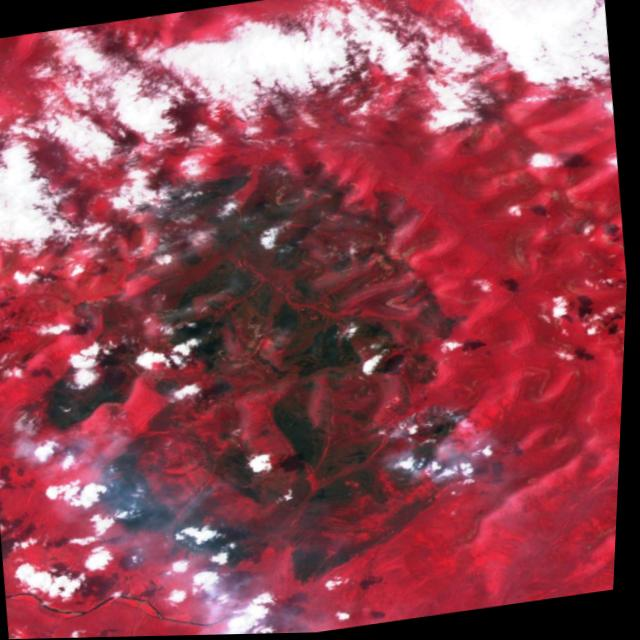fire: (9, 359, 147, 483), (126, 262, 282, 370), (132, 159, 266, 238)
